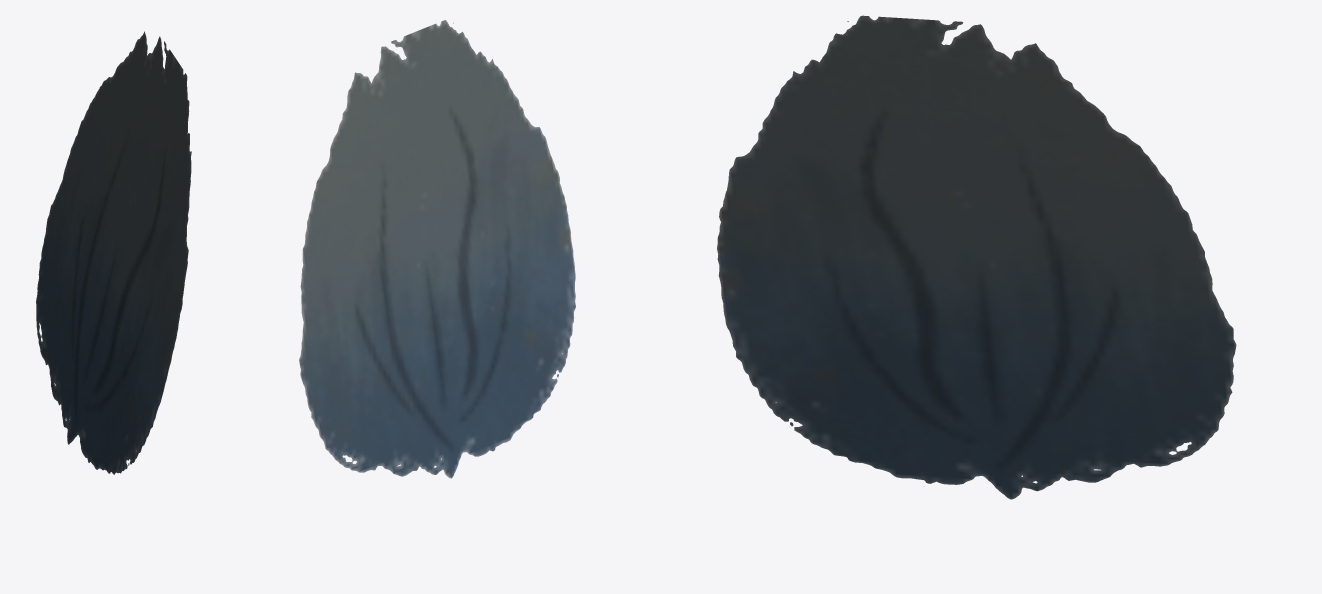
The model's file is tree4_001.fbx.
3 views of the same model, side by side, from view 1: azimuth 30°, elevation 25°; view 2: azimuth 150°, elevation 25°; view 3: azimuth 270°, elevation 25° (orthographic). The views are drawn at different scales.
Parts seen in each view (by area): view 1: tree4.001; view 2: tree4.001; view 3: tree4.001.
Boxes of the visible parts, x1,y1,x2,y2 form: tree4.001: (36, 31, 191, 474); tree4.001: (299, 20, 575, 478); tree4.001: (717, 15, 1236, 499).
Size of the model in its own units: 61.14 by 183 by 178.
